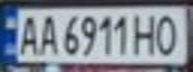1: (109, 11, 133, 55), (96, 11, 115, 55)
6: (57, 11, 81, 56)
9: (78, 11, 100, 56)
A: (15, 11, 42, 56), (33, 11, 60, 56)
H: (133, 10, 160, 56)
O: (151, 10, 184, 56)
